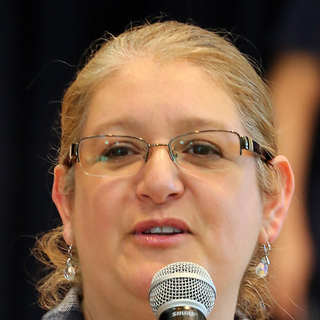eye: (182, 136, 224, 162), (98, 142, 142, 161)
